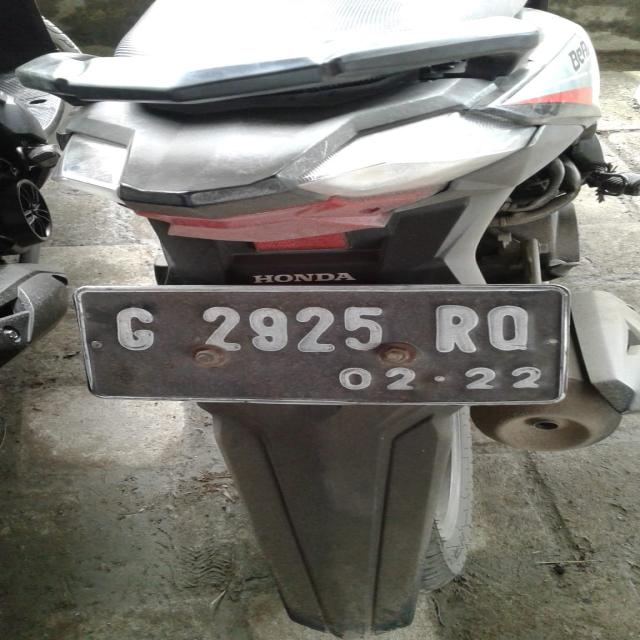plate: (71, 285, 566, 407)
